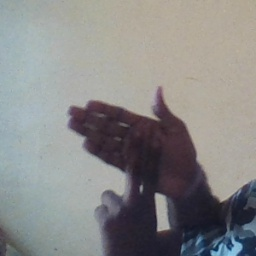N: (62, 82, 181, 234)
